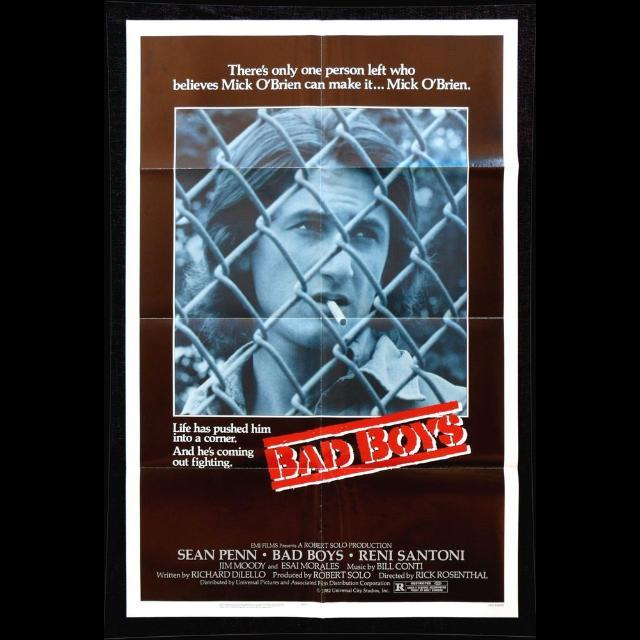rokok: (326, 300, 349, 330)
